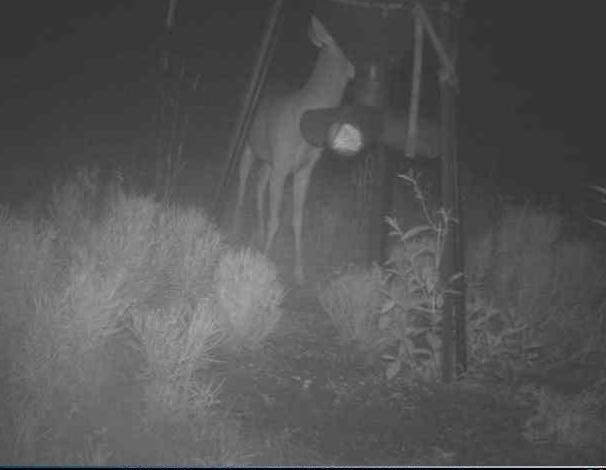Deer: (233, 11, 363, 291)
